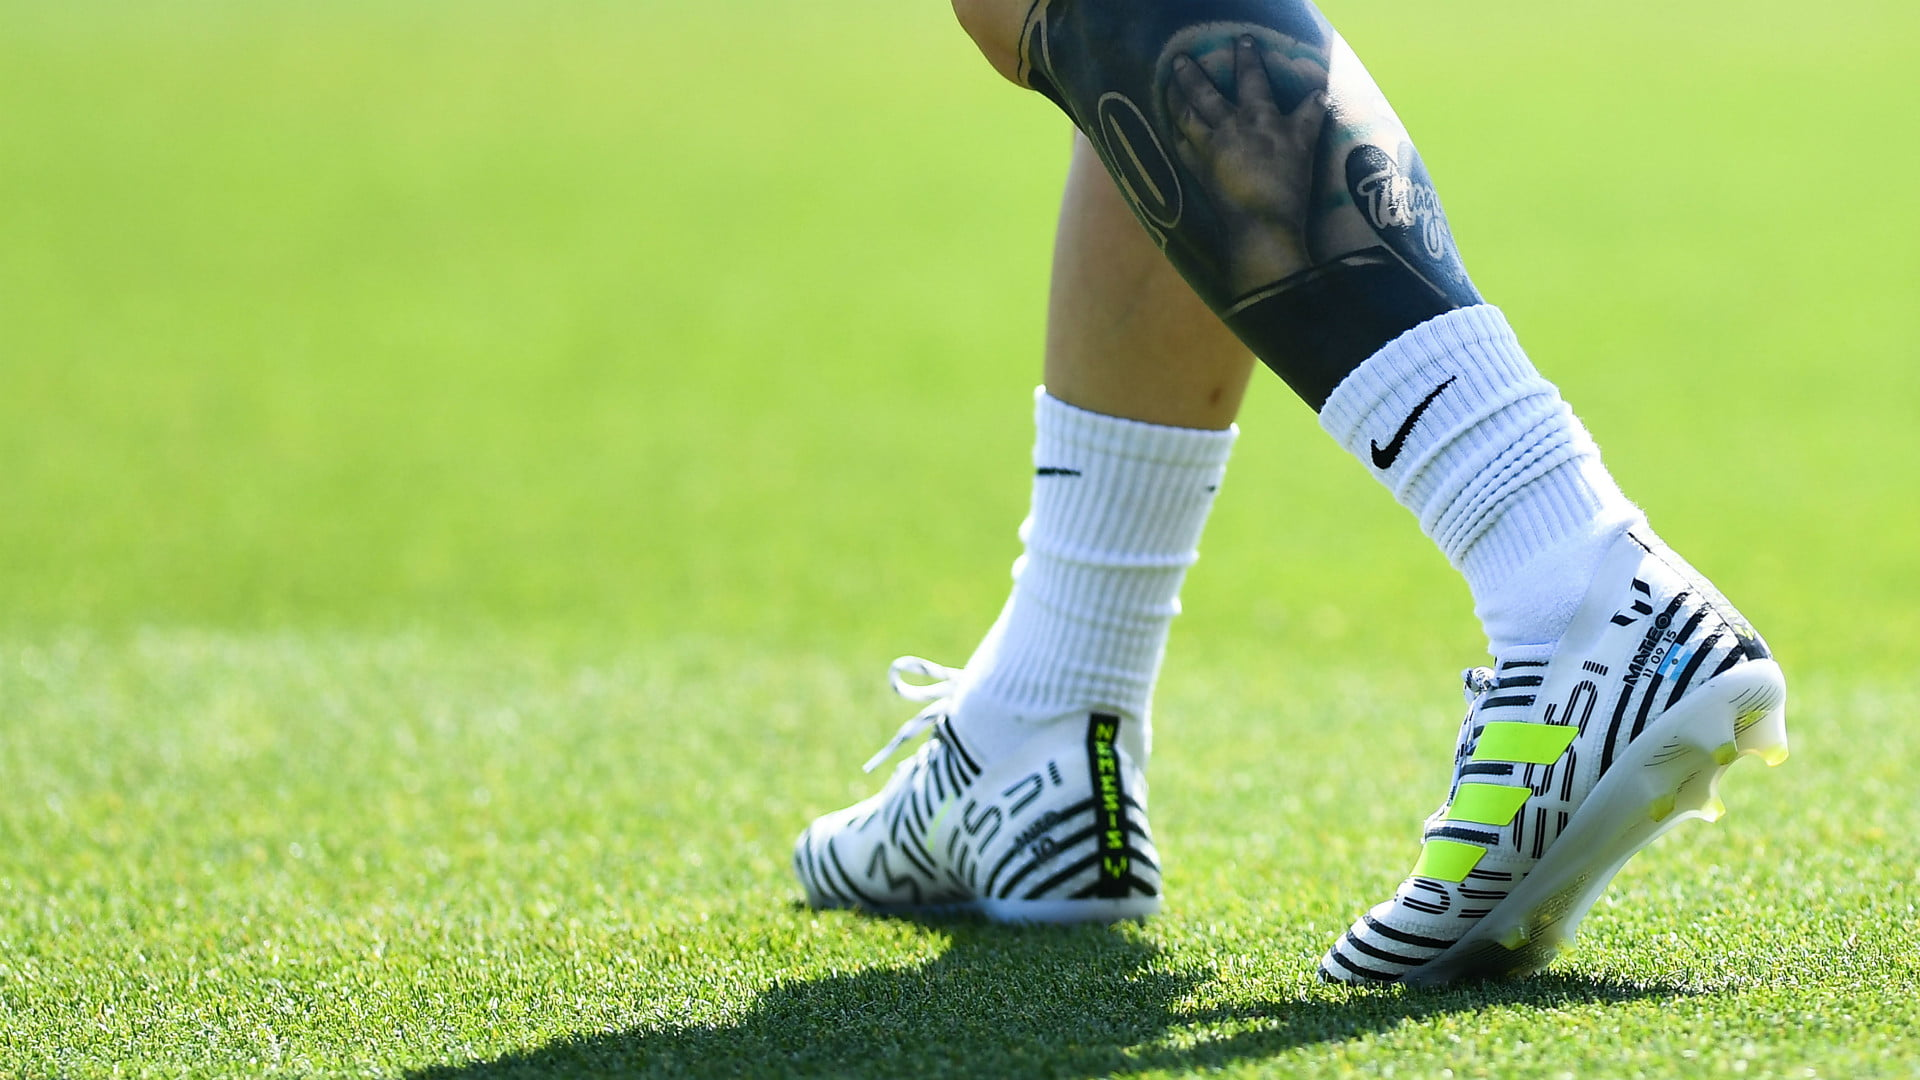football boots: (1323, 531, 1784, 990), (794, 713, 1158, 931)
